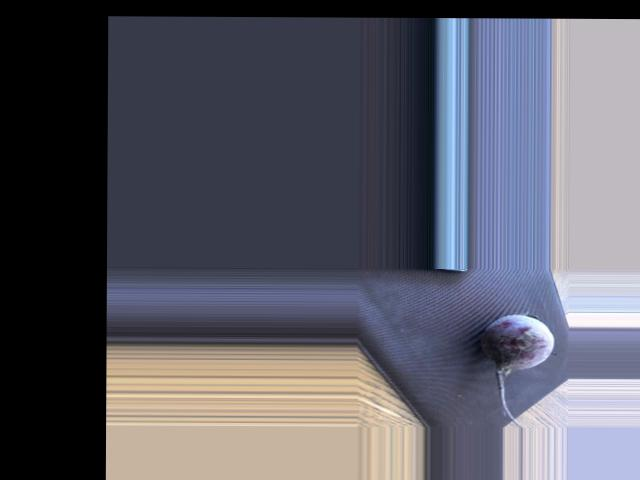beet: (480, 314, 553, 427)
